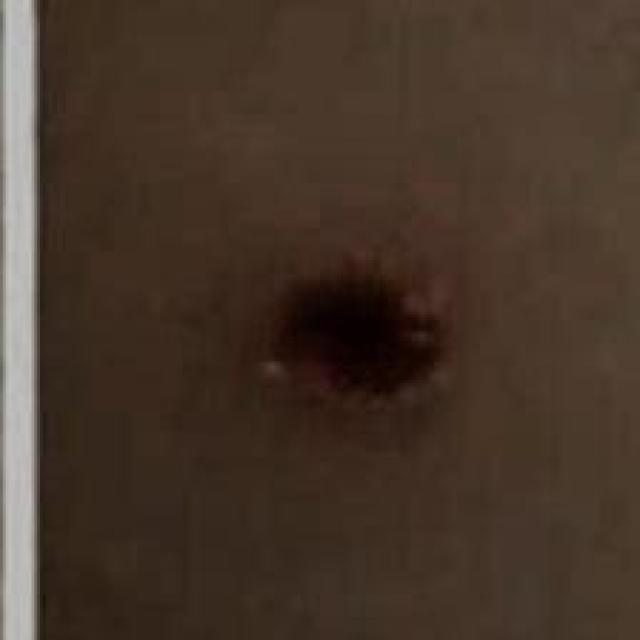others: (176, 131, 524, 493)
